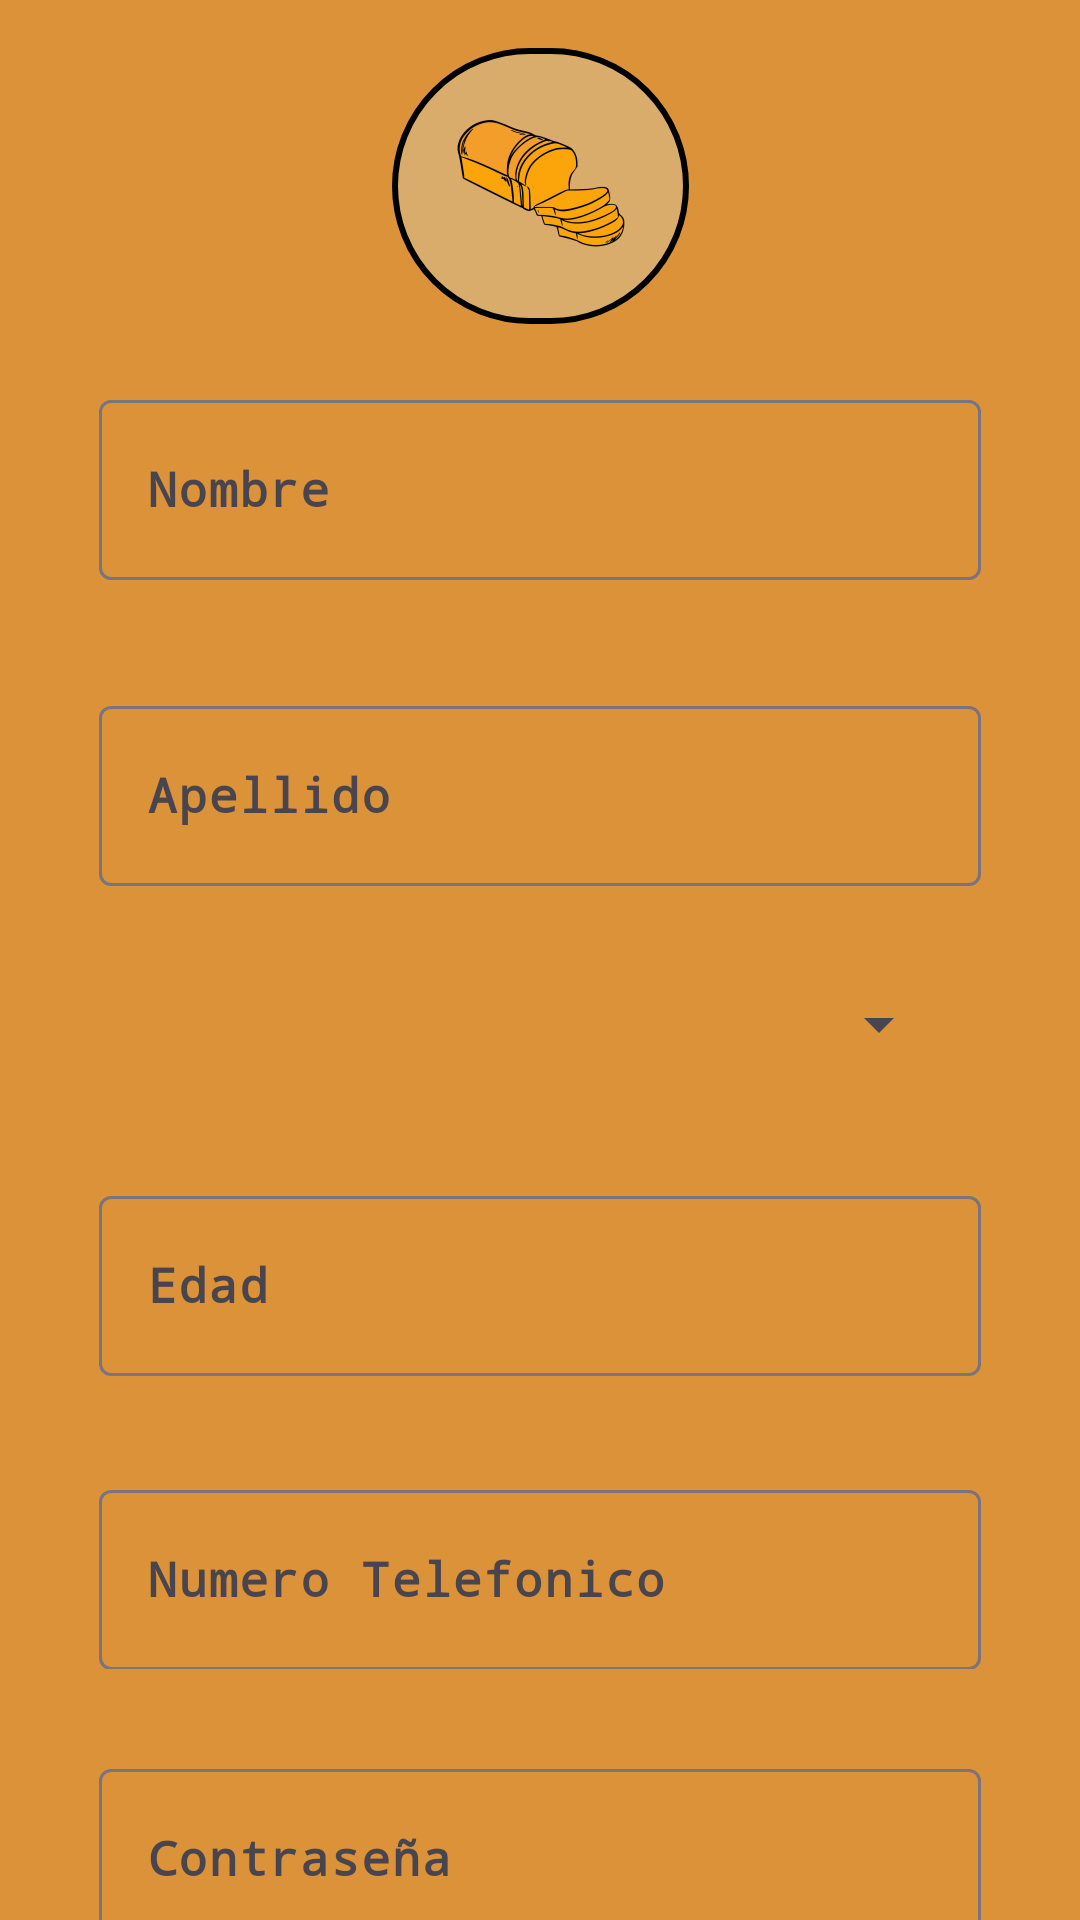

Named icons in this screenshot (1080px×1920px) and their bounding boxes, (x1, y1, x2, y2):
Recetario para la app: (392, 48, 689, 324)
